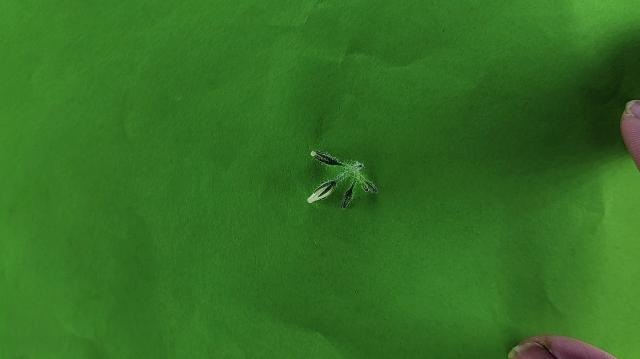Flower Bud: (307, 180, 337, 204), (312, 151, 341, 165), (341, 187, 353, 210), (367, 183, 378, 194)
